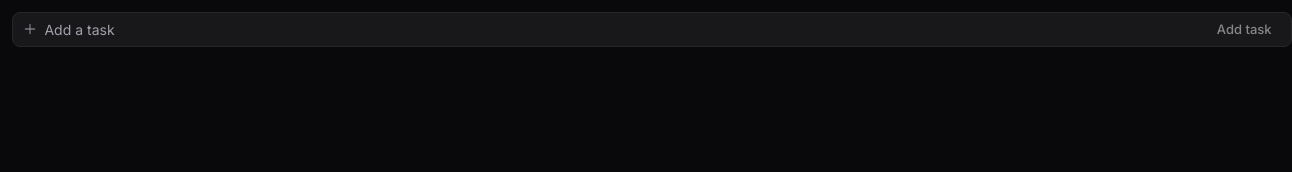
QuickAddTask date words (M32) › test while the chip shows, a line under the field reads the title as it will be saved
This screenshot has width=1292, height=172.
Later steps or results of the test are not shown.
Type "Read" into the field with placeholder "Add a task". click: (622, 29)
box: top-left (44, 19), bottom-right (1199, 40)
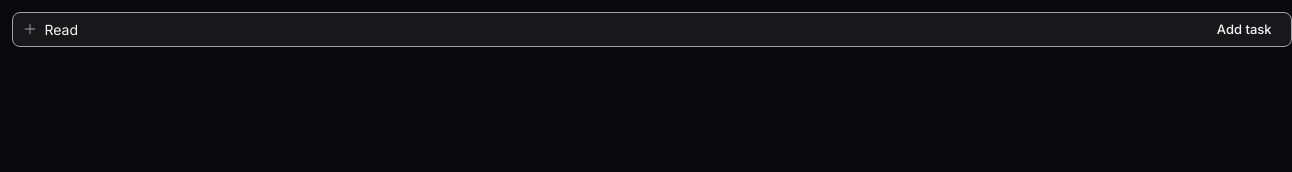
Type " Friday Night Lights" into the field with placeholder "Add a task". click: (622, 29)
box: top-left (44, 19), bottom-right (1199, 40)
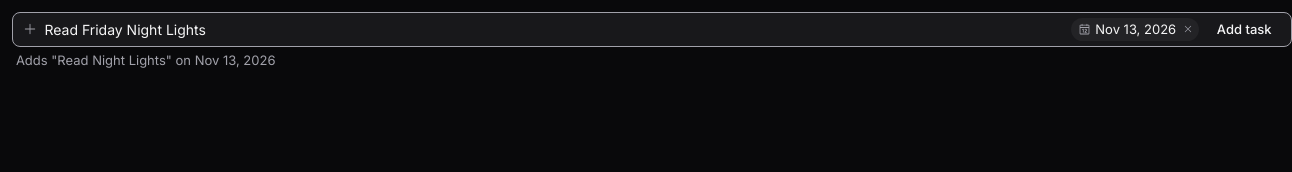
Now the text with test id "quick-add-preview" reads "Adds \"Read Night Lights\" on Nov 13, 2026", box top-left (16, 52), bottom-right (276, 68)
# Without the chip the words are the title, and there is nothing to say.
Click the button named "Remove date". click: (1188, 29)
box: top-left (1180, 22), bottom-right (1196, 37)
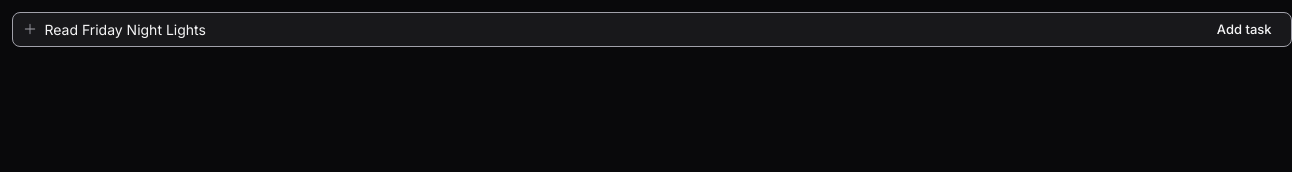
Now the text with test id "quick-add-preview" is gone
